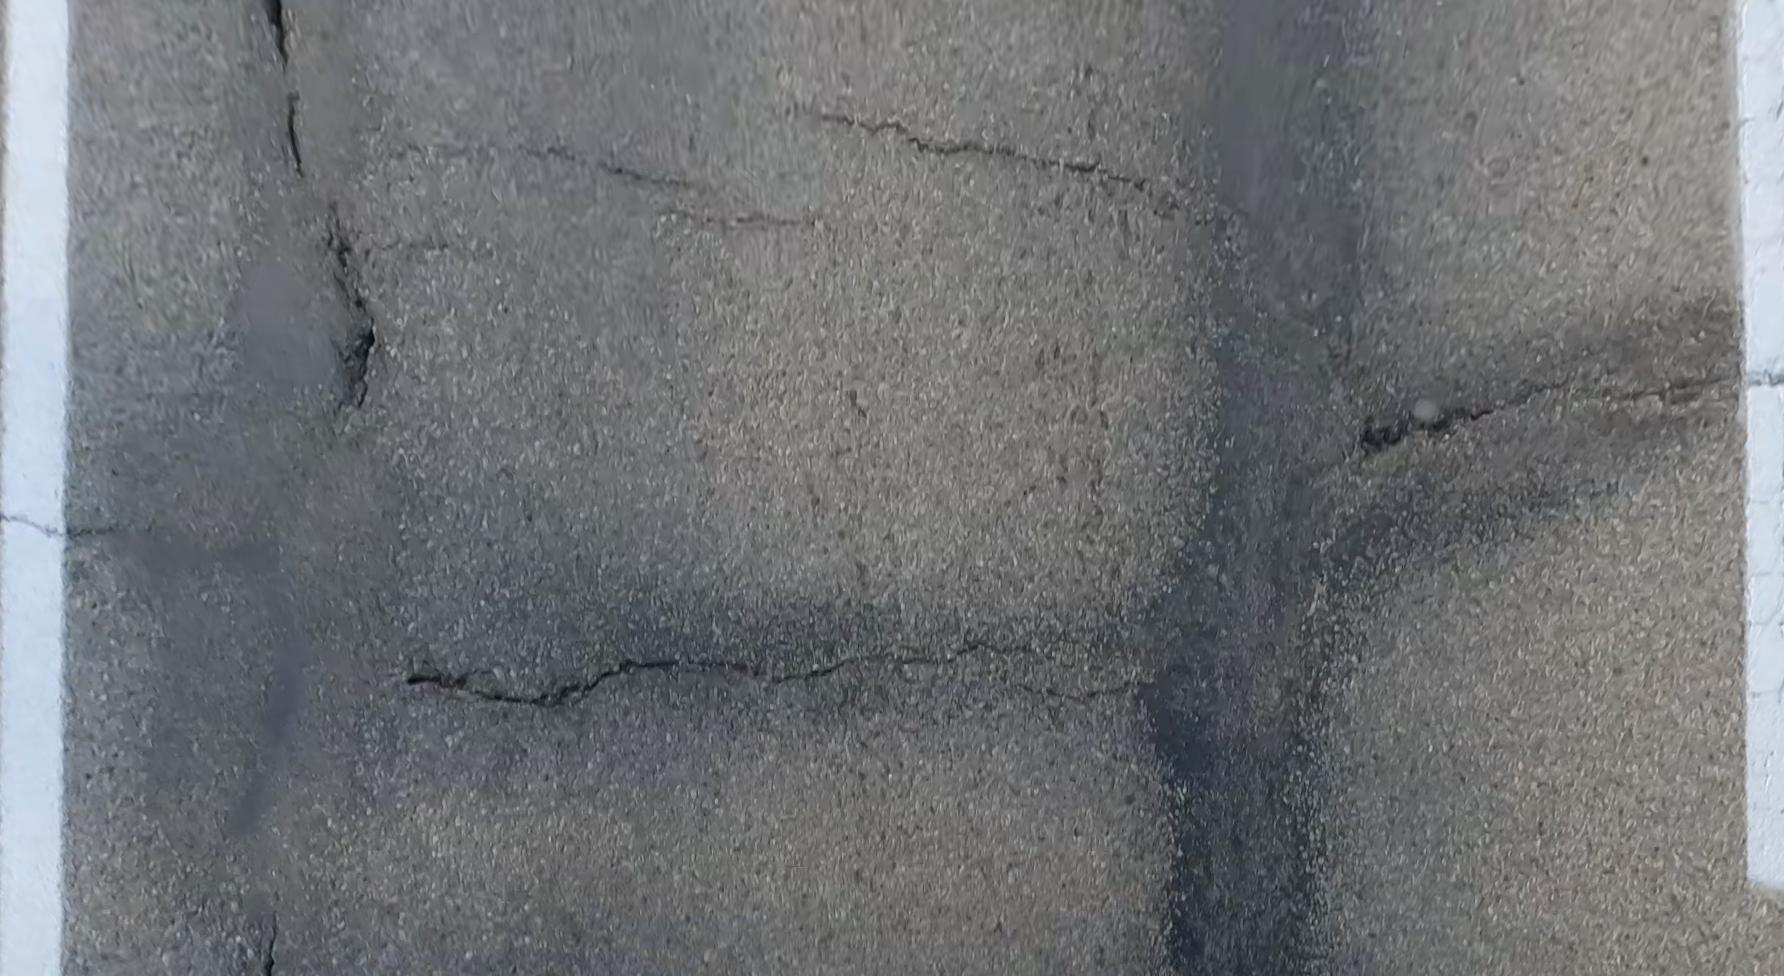pothole_patch_good: (1126, 0, 1623, 976), (114, 407, 414, 883)
pothole_patch_poor: (394, 528, 1146, 797), (195, 0, 402, 425), (1343, 297, 1784, 464)
